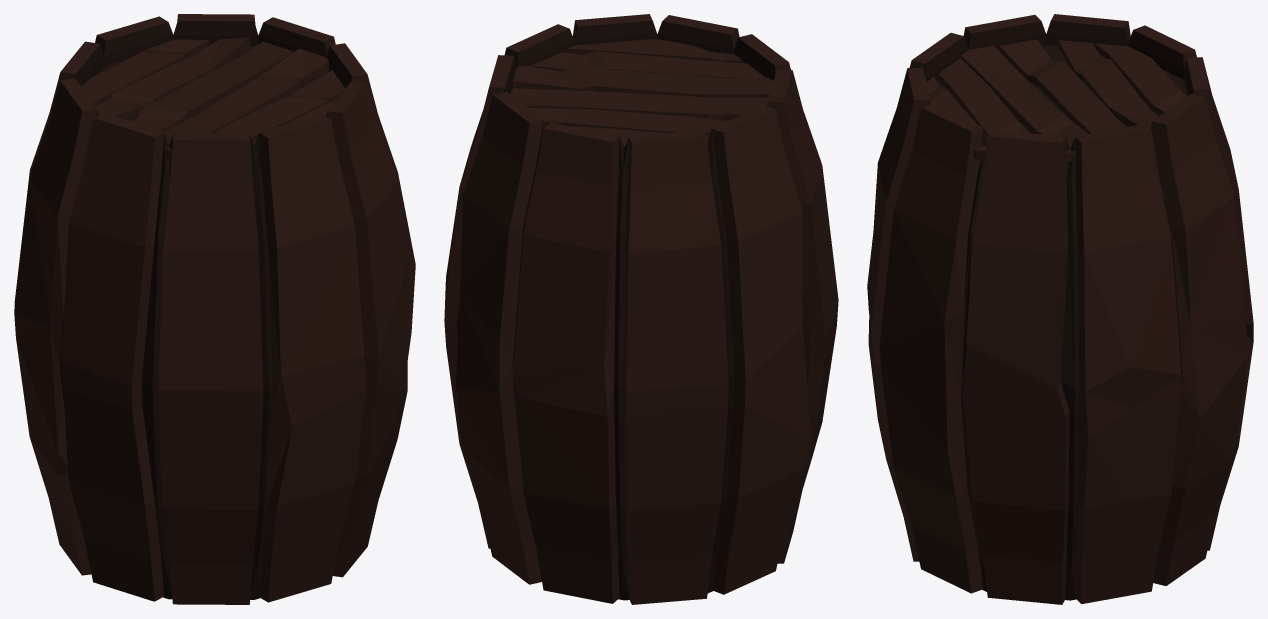
The model's file is Barrel_Cylinder.obj.
3 views of the same model, side by side, from view 1: azimuth 30°, elevation 25°; view 2: azimuth 150°, elevation 25°; view 3: azimuth 270°, elevation 25° (orthographic).
Parts seen in each view (by area): view 1: Barrel_Cylinder.001; view 2: Barrel_Cylinder.001; view 3: Barrel_Cylinder.001.
Boxes of the visible parts, x1,y1,x2,y2 form: Barrel_Cylinder.001: (14, 14, 415, 604); Barrel_Cylinder.001: (444, 14, 838, 604); Barrel_Cylinder.001: (867, 14, 1253, 604).
Size of the model in its own units: 1.03 by 1.35 by 1.02.
